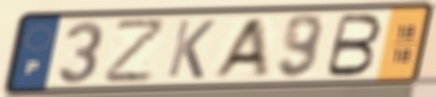3: (56, 17, 106, 87)
9: (275, 12, 324, 82)
A: (207, 15, 271, 81)
B: (322, 12, 385, 79)
K: (164, 18, 218, 81)
Z: (102, 16, 170, 86)
